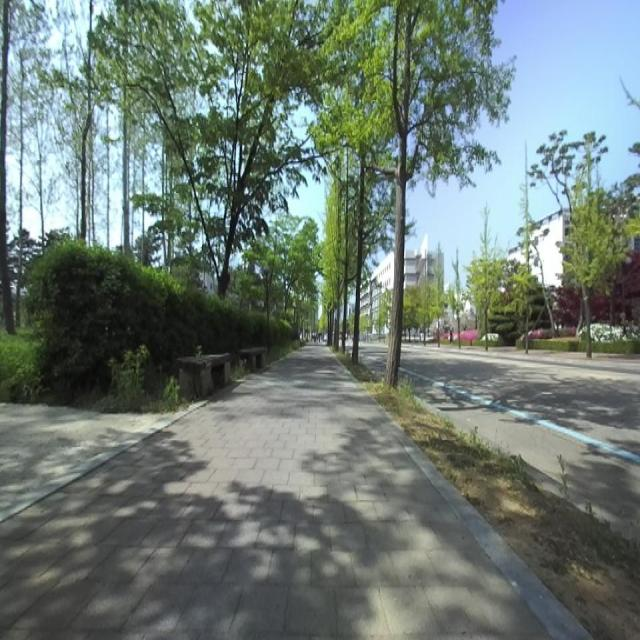sidewalk: (0, 346, 549, 639)
